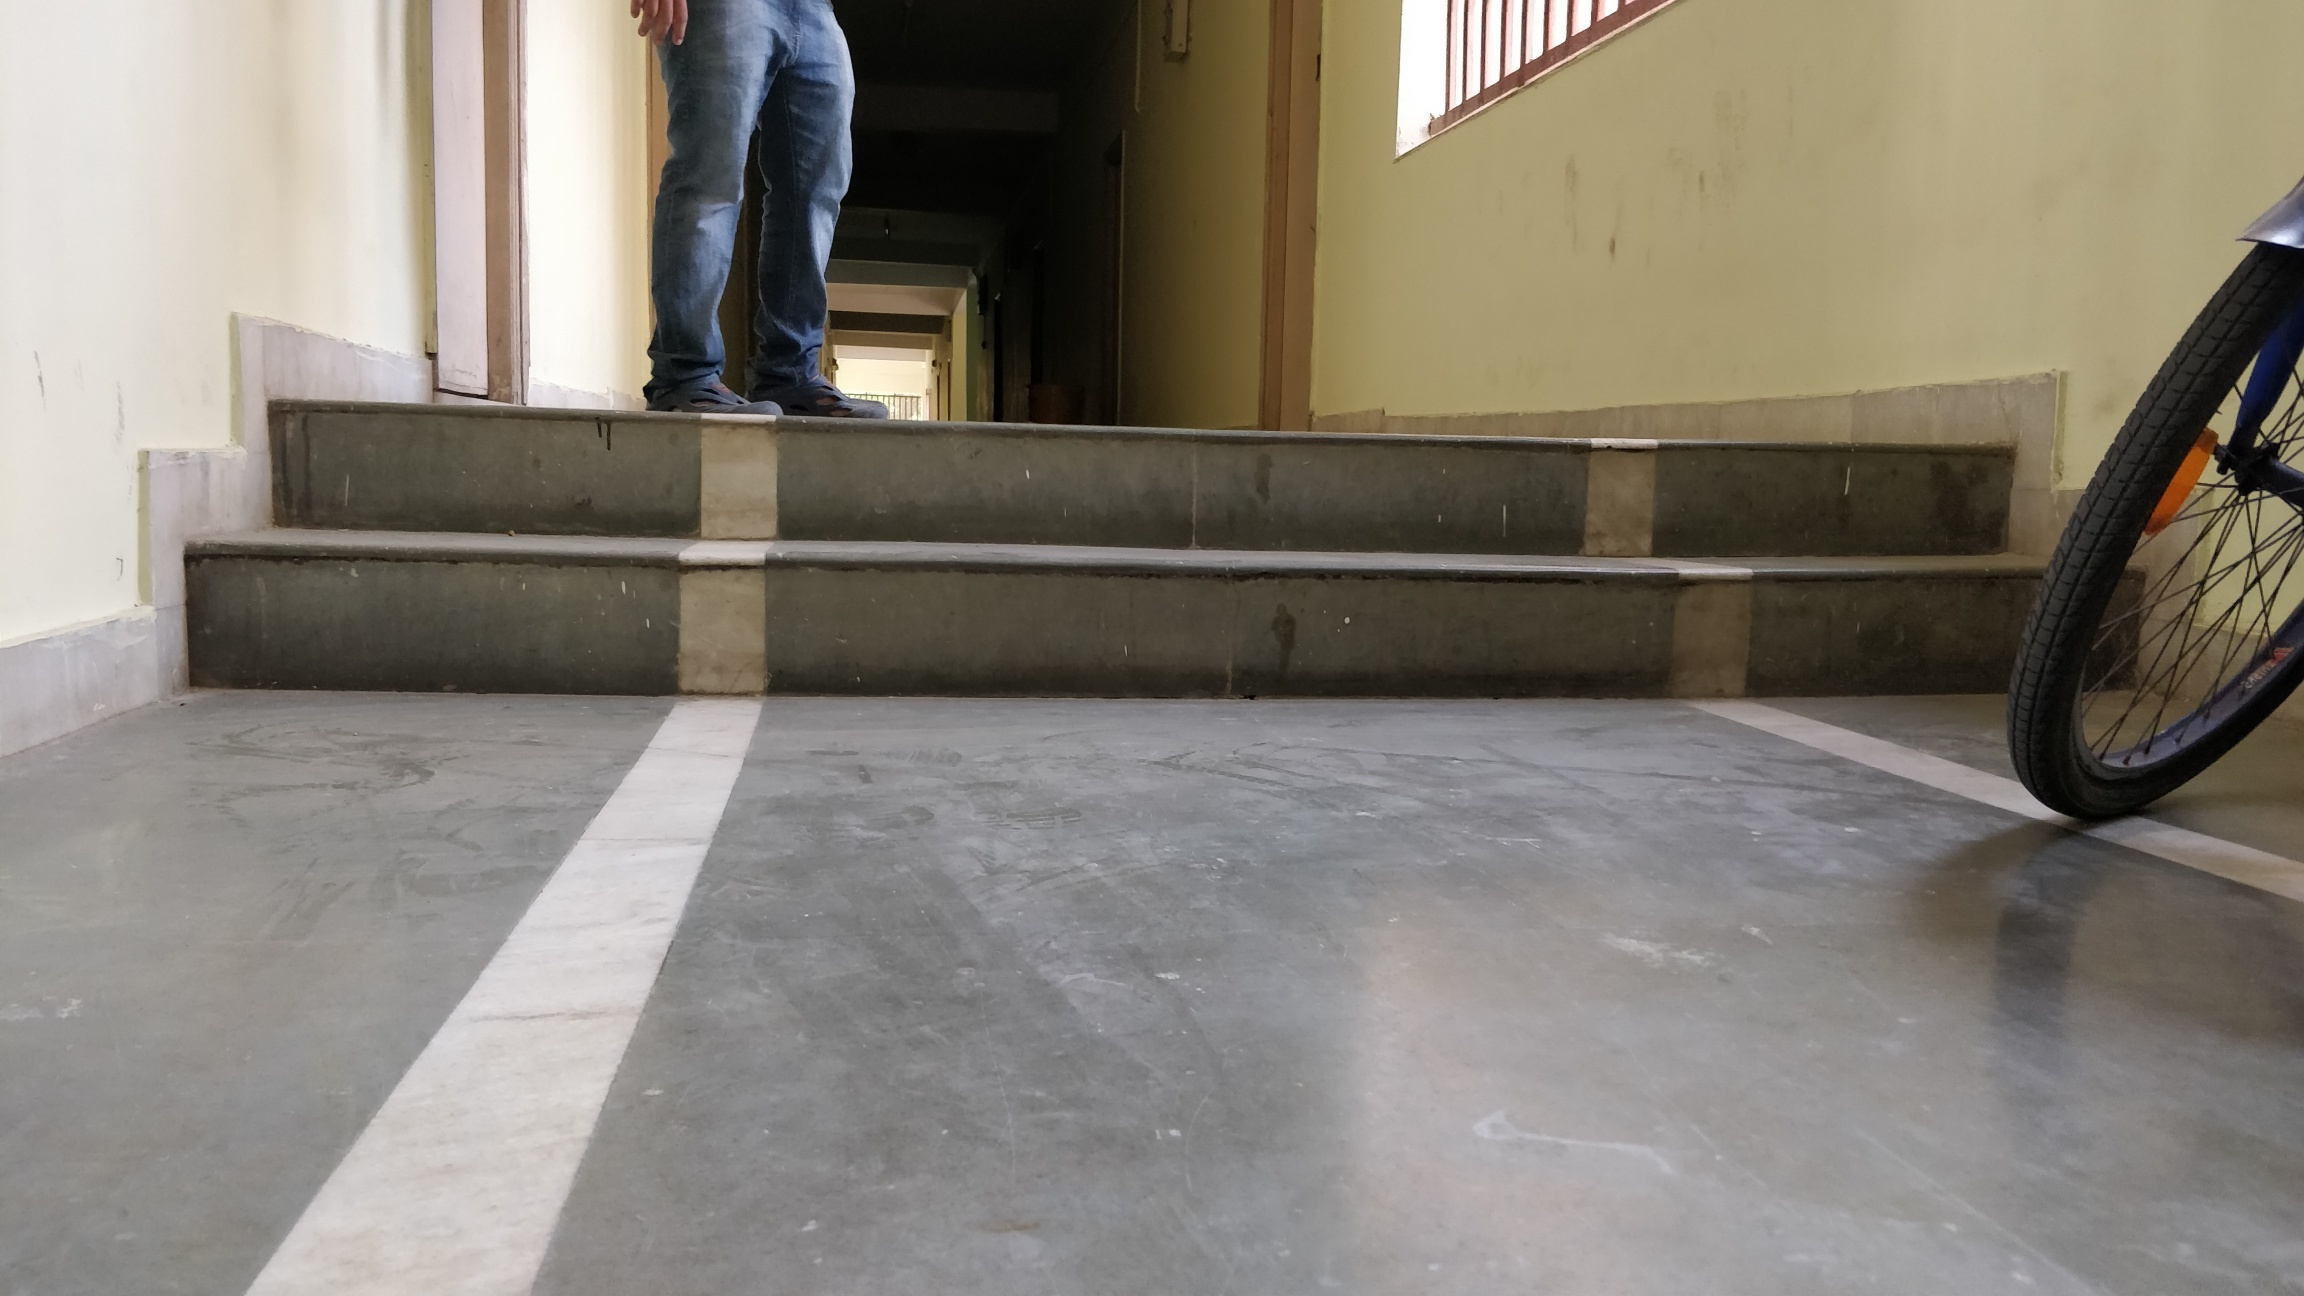stairs_up: (157, 396, 2043, 709)
